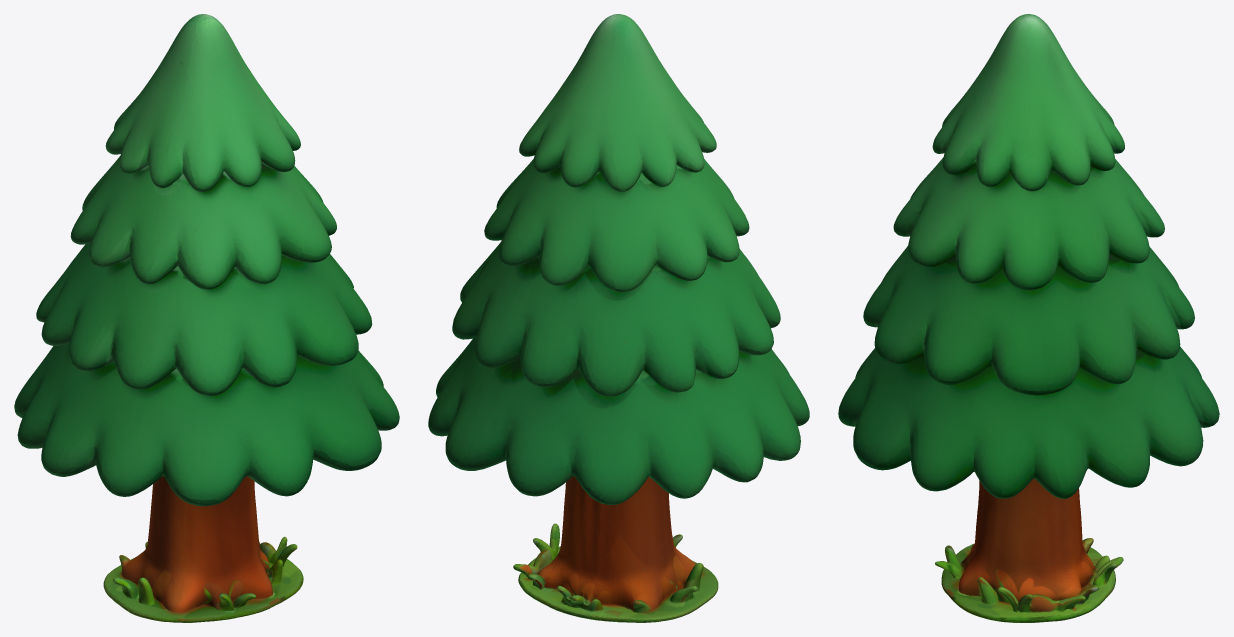
File: nat_tree_pine_01.glb
3 views of the same model, side by side, from view 1: azimuth 30°, elevation 25°; view 2: azimuth 150°, elevation 25°; view 3: azimuth 270°, elevation 25° (orthographic).
Parts seen in each view (by area): view 1: geometry_0; view 2: geometry_0; view 3: geometry_0.
Boxes of the visible parts, <box> form: geometry_0: <box>14,14,399,622</box>; geometry_0: <box>428,14,809,622</box>; geometry_0: <box>838,14,1219,622</box>.
Bounding box in the file's own units: 0.1526 × 0.25 × 0.152.
1 material, 1 textured.
